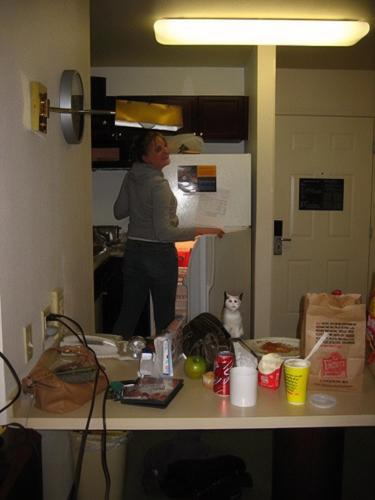cat: (223, 291, 243, 338)
person: (113, 133, 227, 340)
person/hand: (210, 226, 225, 240)
person/head: (137, 136, 170, 168)
